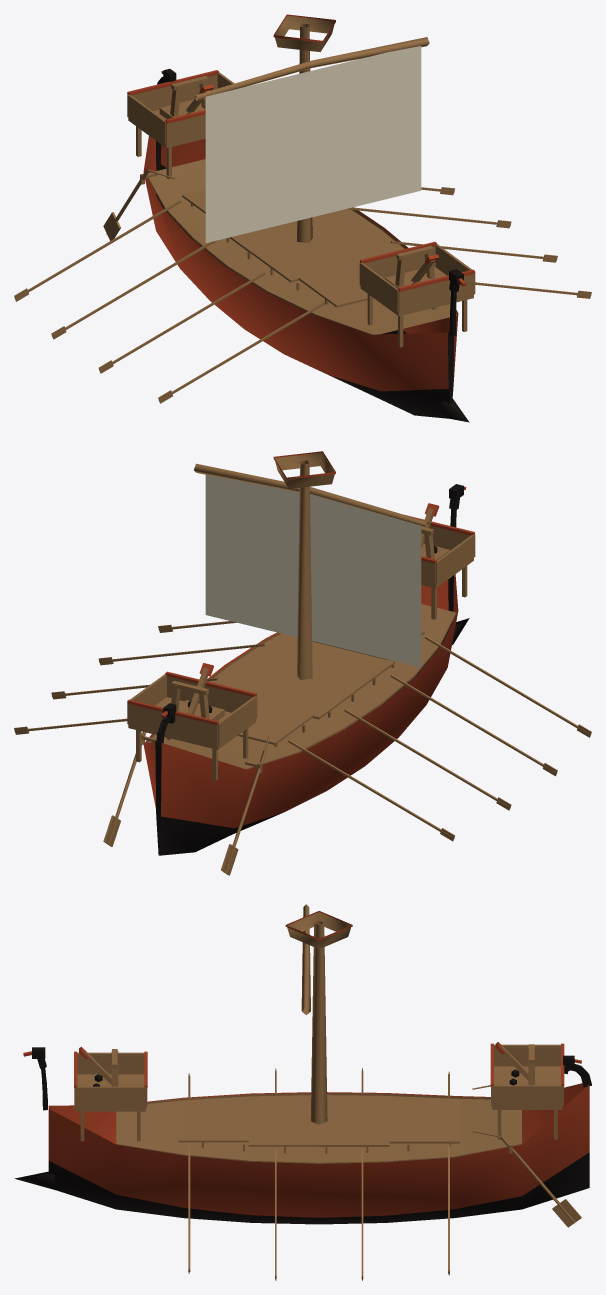
The model's file is ship_bomber_blockout_LOD2.obj.
3 renders of one model, top to bottom at view 1: azimuth 30°, elevation 25°; view 2: azimuth 150°, elevation 25°; view 3: azimuth 270°, elevation 25°, orthographic. The views are drawn at different scales.
Parts seen in each view (by area): view 1: ship_bomber_blockout_LOD2; view 2: ship_bomber_blockout_LOD2; view 3: ship_bomber_blockout_LOD2.
Boxes of the visible parts, bbox=[...] form: ship_bomber_blockout_LOD2: bbox=[14, 14, 591, 422]; ship_bomber_blockout_LOD2: bbox=[14, 451, 591, 875]; ship_bomber_blockout_LOD2: bbox=[14, 904, 591, 1280].
Size of the model in its own units: 23.89 by 16.18 by 28.11.
